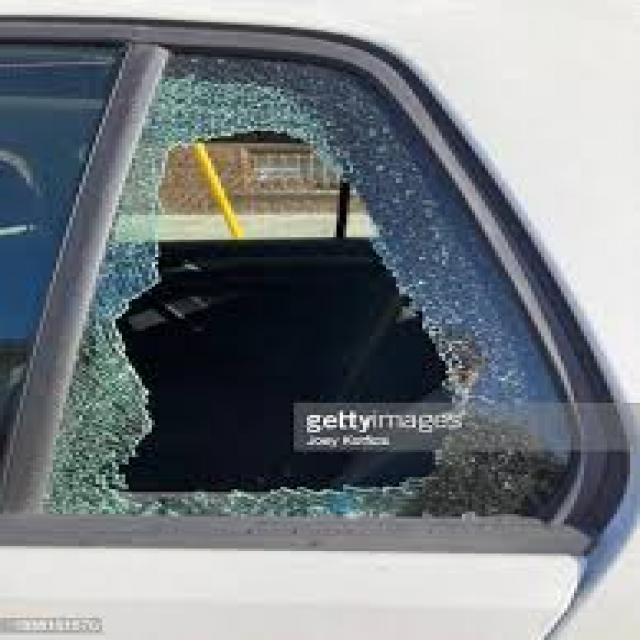damaged-window: (51, 27, 610, 546)
